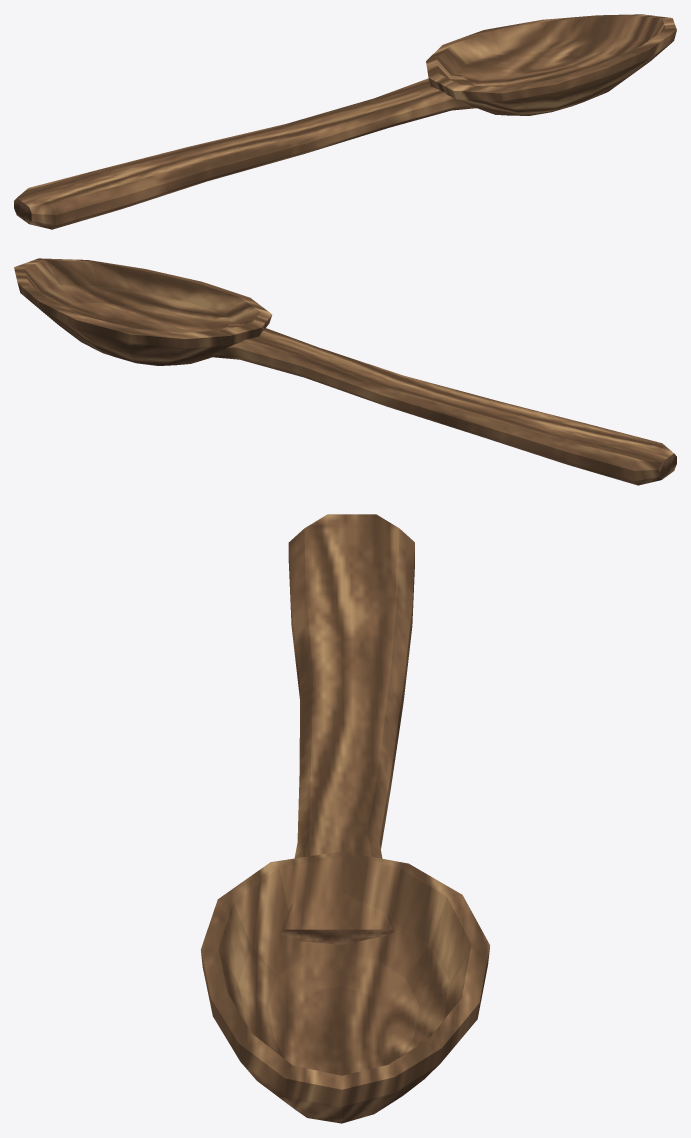
The model's file is Colher-de-Madeira.glb.
The picture shows the model from 3 angles, top to bottom: view 1: azimuth 30°, elevation 25°; view 2: azimuth 150°, elevation 25°; view 3: azimuth 270°, elevation 25°; orthographic projection. The views are drawn at different scales.
Visible parts, largest first — view 1: Concha da colher, Cabo da colher; view 2: Concha da colher, Cabo da colher; view 3: Concha da colher, Cabo da colher.
Boxes of the visible parts, left/top/right/bottom form: Concha da colher: left=426, top=14, right=676, bottom=115; Cabo da colher: left=14, top=75, right=476, bottom=229; Concha da colher: left=14, top=258, right=272, bottom=365; Cabo da colher: left=209, top=323, right=676, bottom=485; Concha da colher: left=201, top=851, right=490, bottom=1123; Cabo da colher: left=280, top=514, right=414, bottom=944.
Size of the model in its own units: 0.2226 by 0.0177 by 0.0431.
2 materials, 2 textured.
